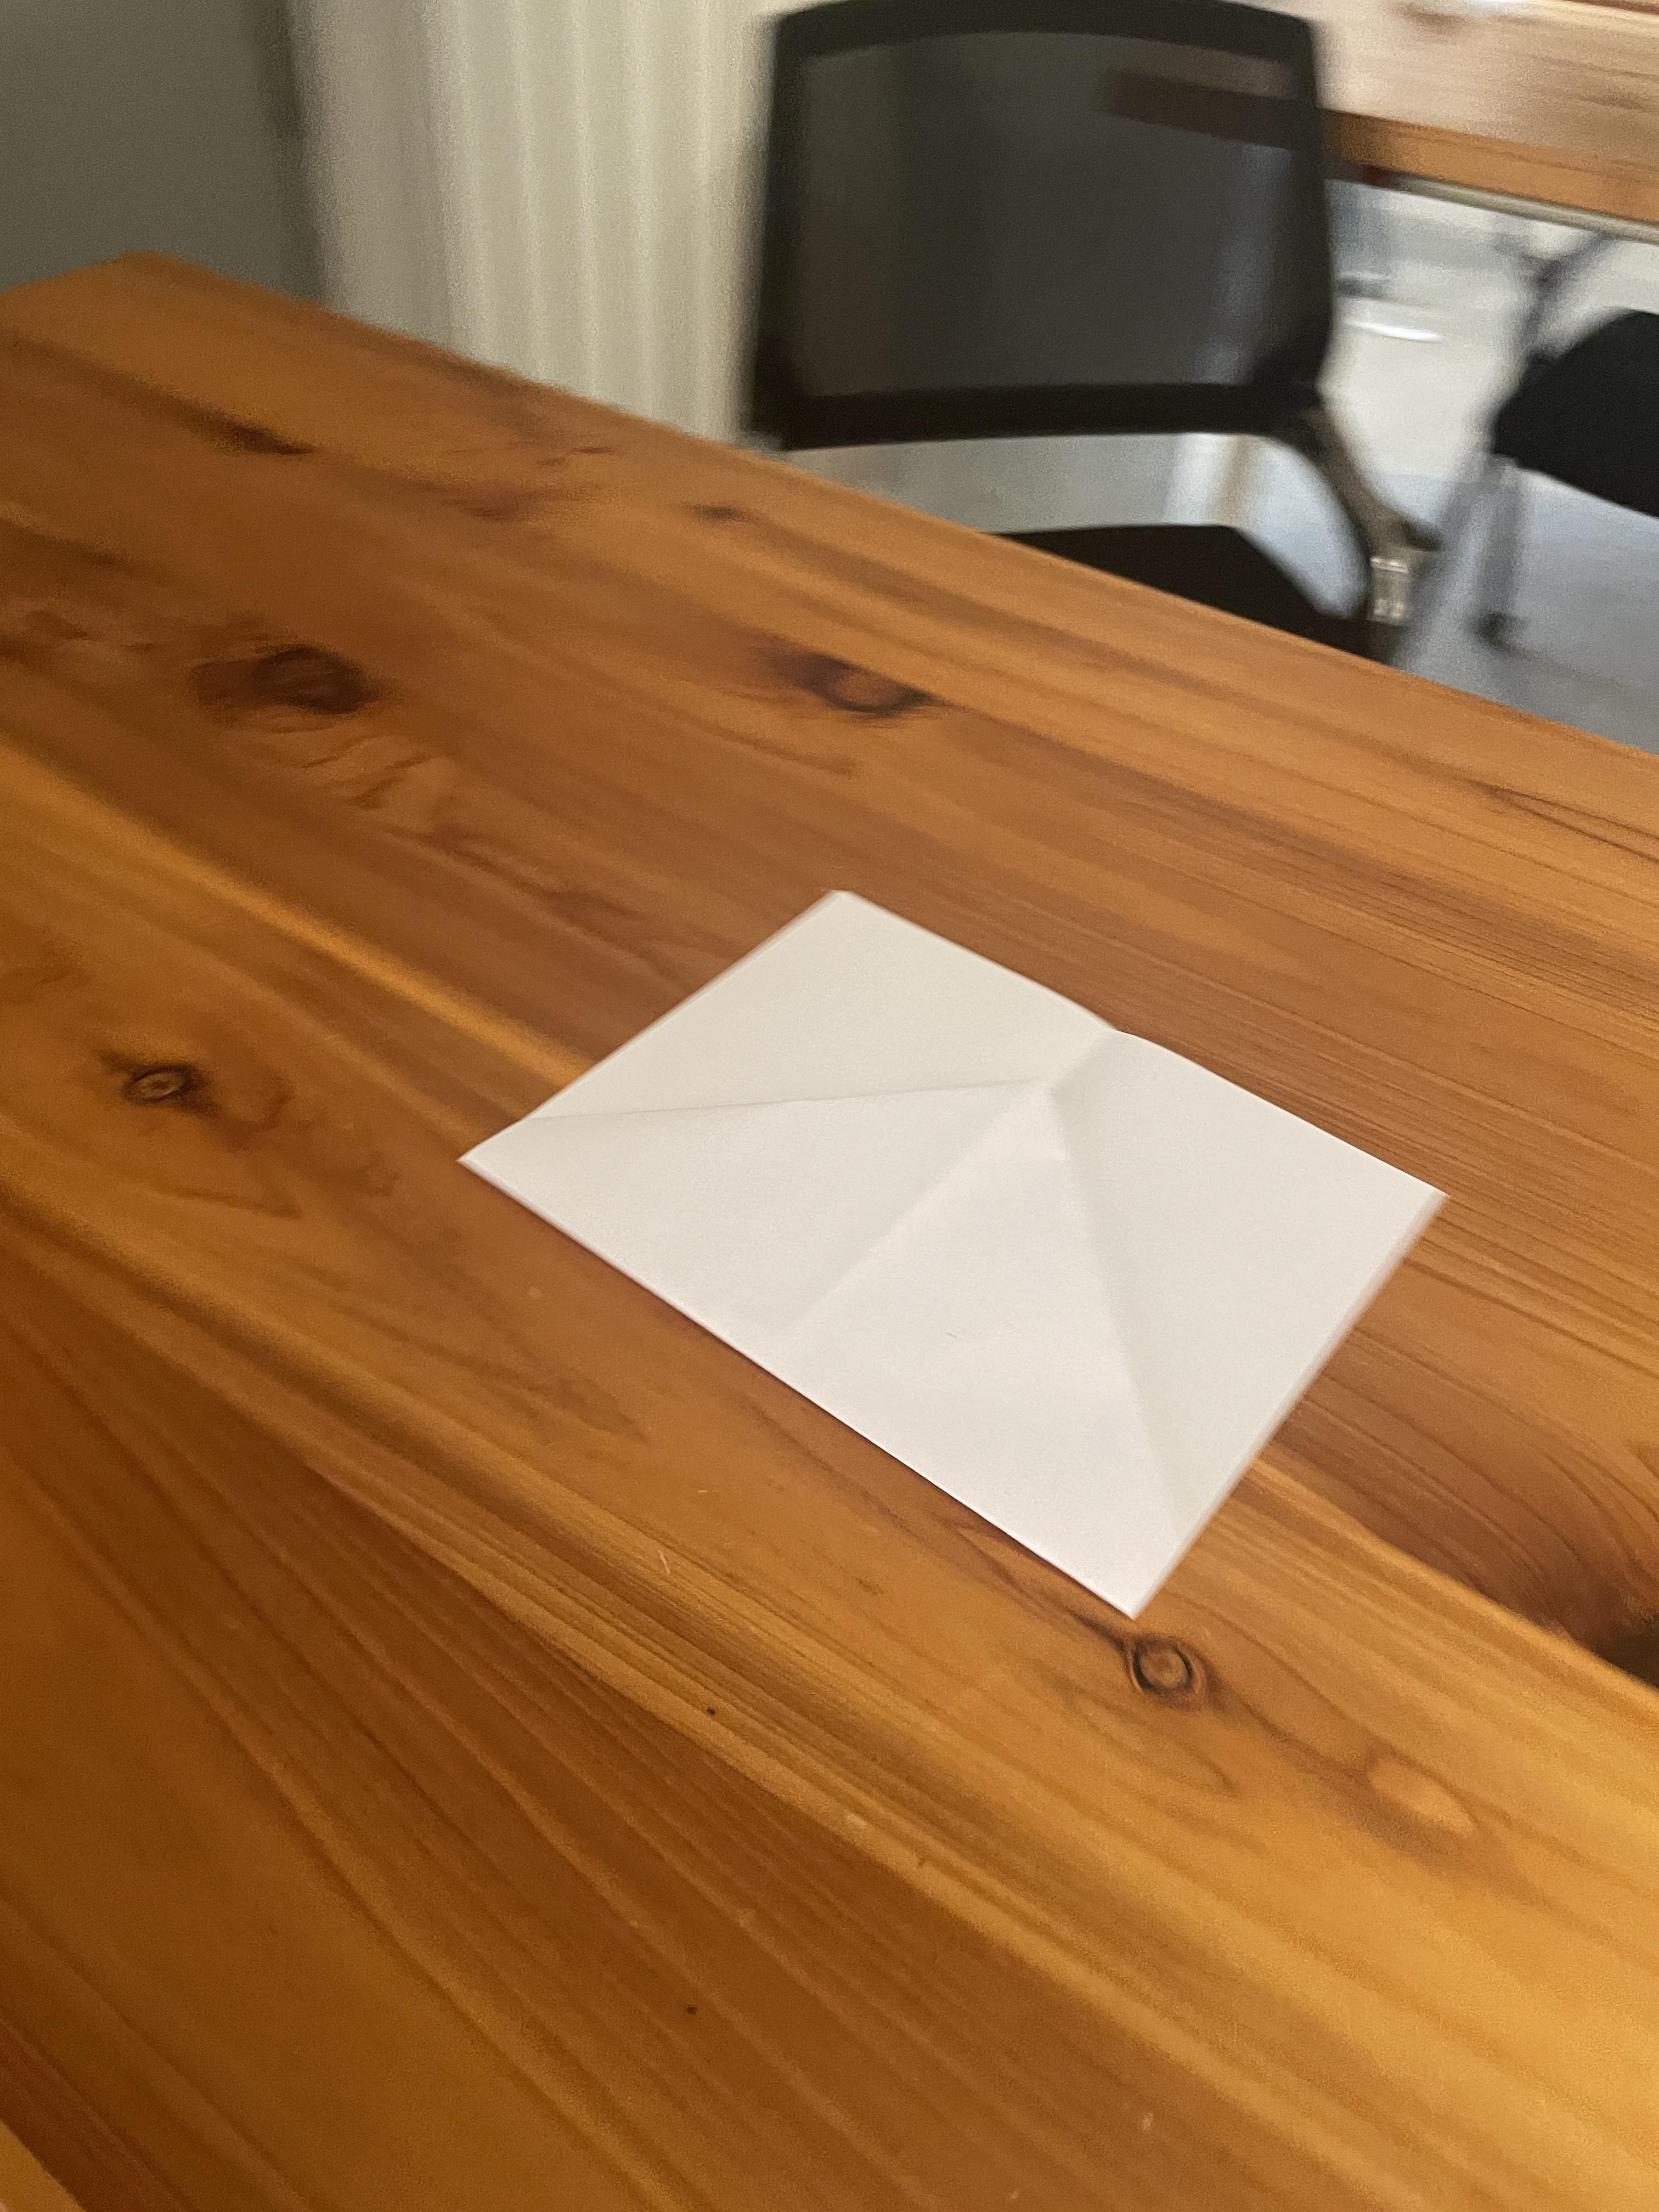shape_1: (312, 676, 1553, 1630)
